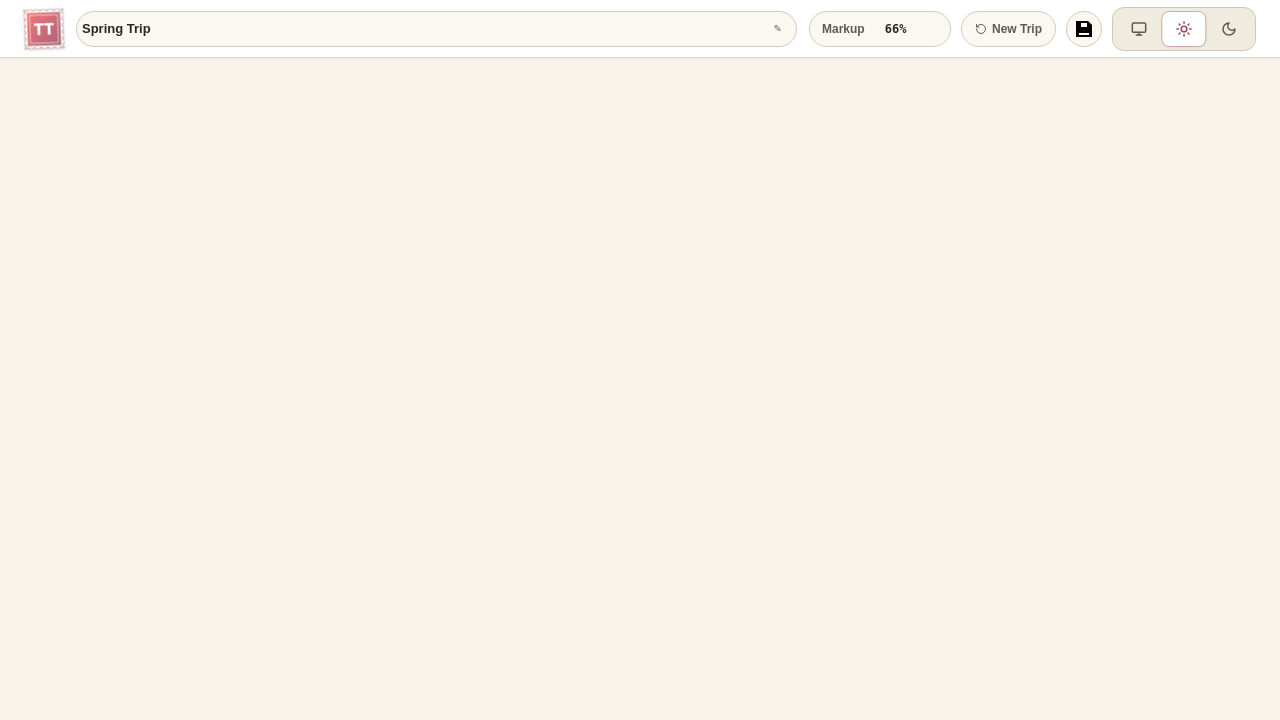
Test: Topbar › FE-TOP-007 cancels reset modal without resetting trip
The width and height of the screenshot is (1280, 720).
Click the button "New Trip".
click(1008, 28)  # box top-left (961, 10), bottom-right (1056, 46)
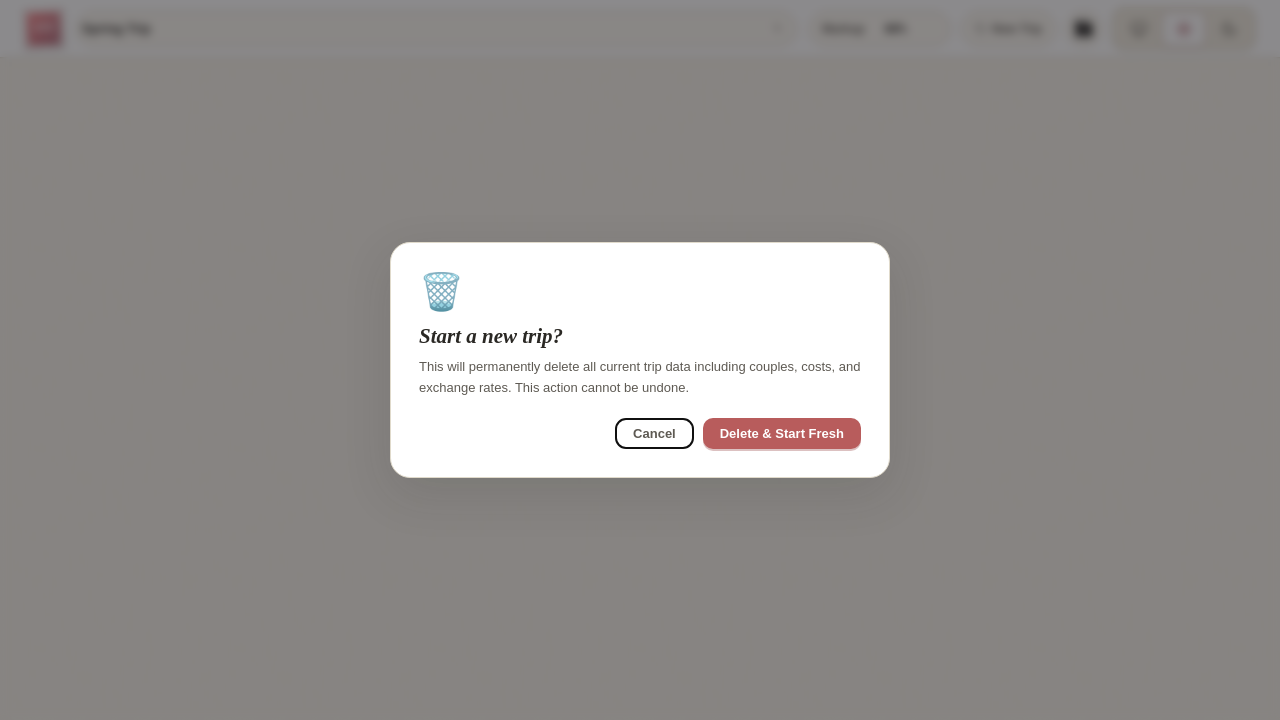
Click the button "Cancel".
click(654, 434)  # box top-left (615, 418), bottom-right (694, 449)
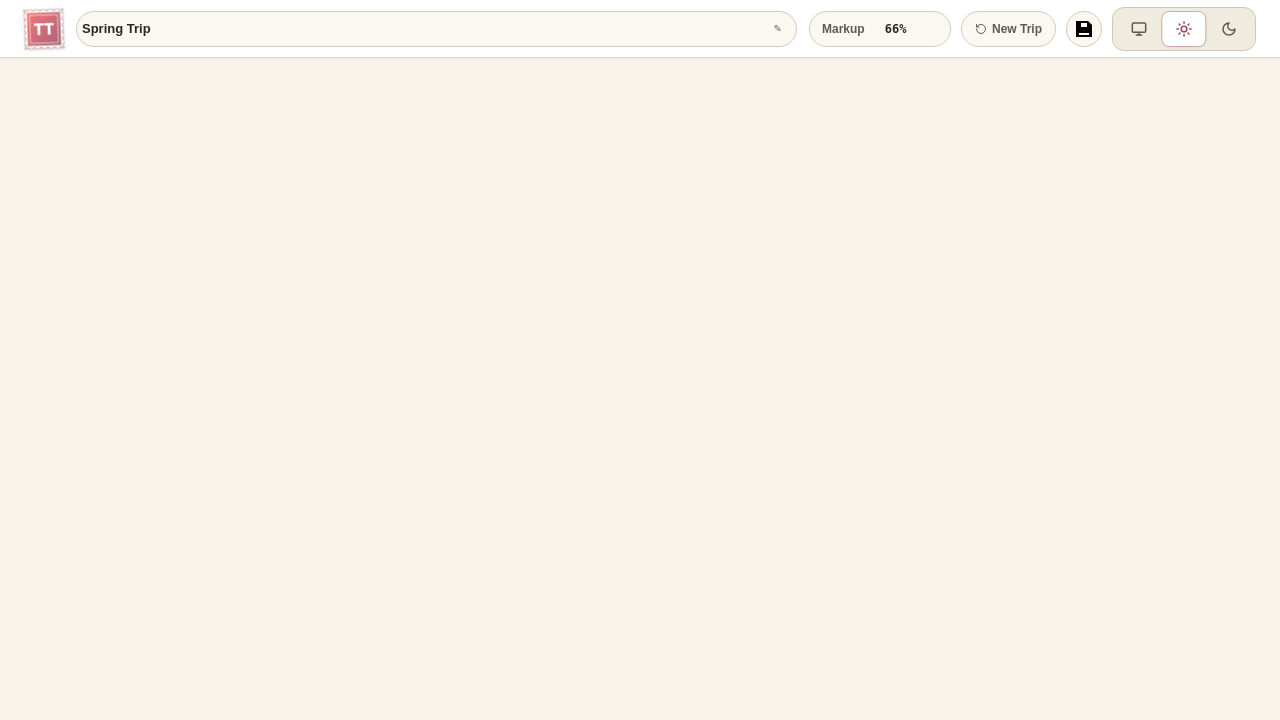
Result: the text "Start a new trip?" is gone
